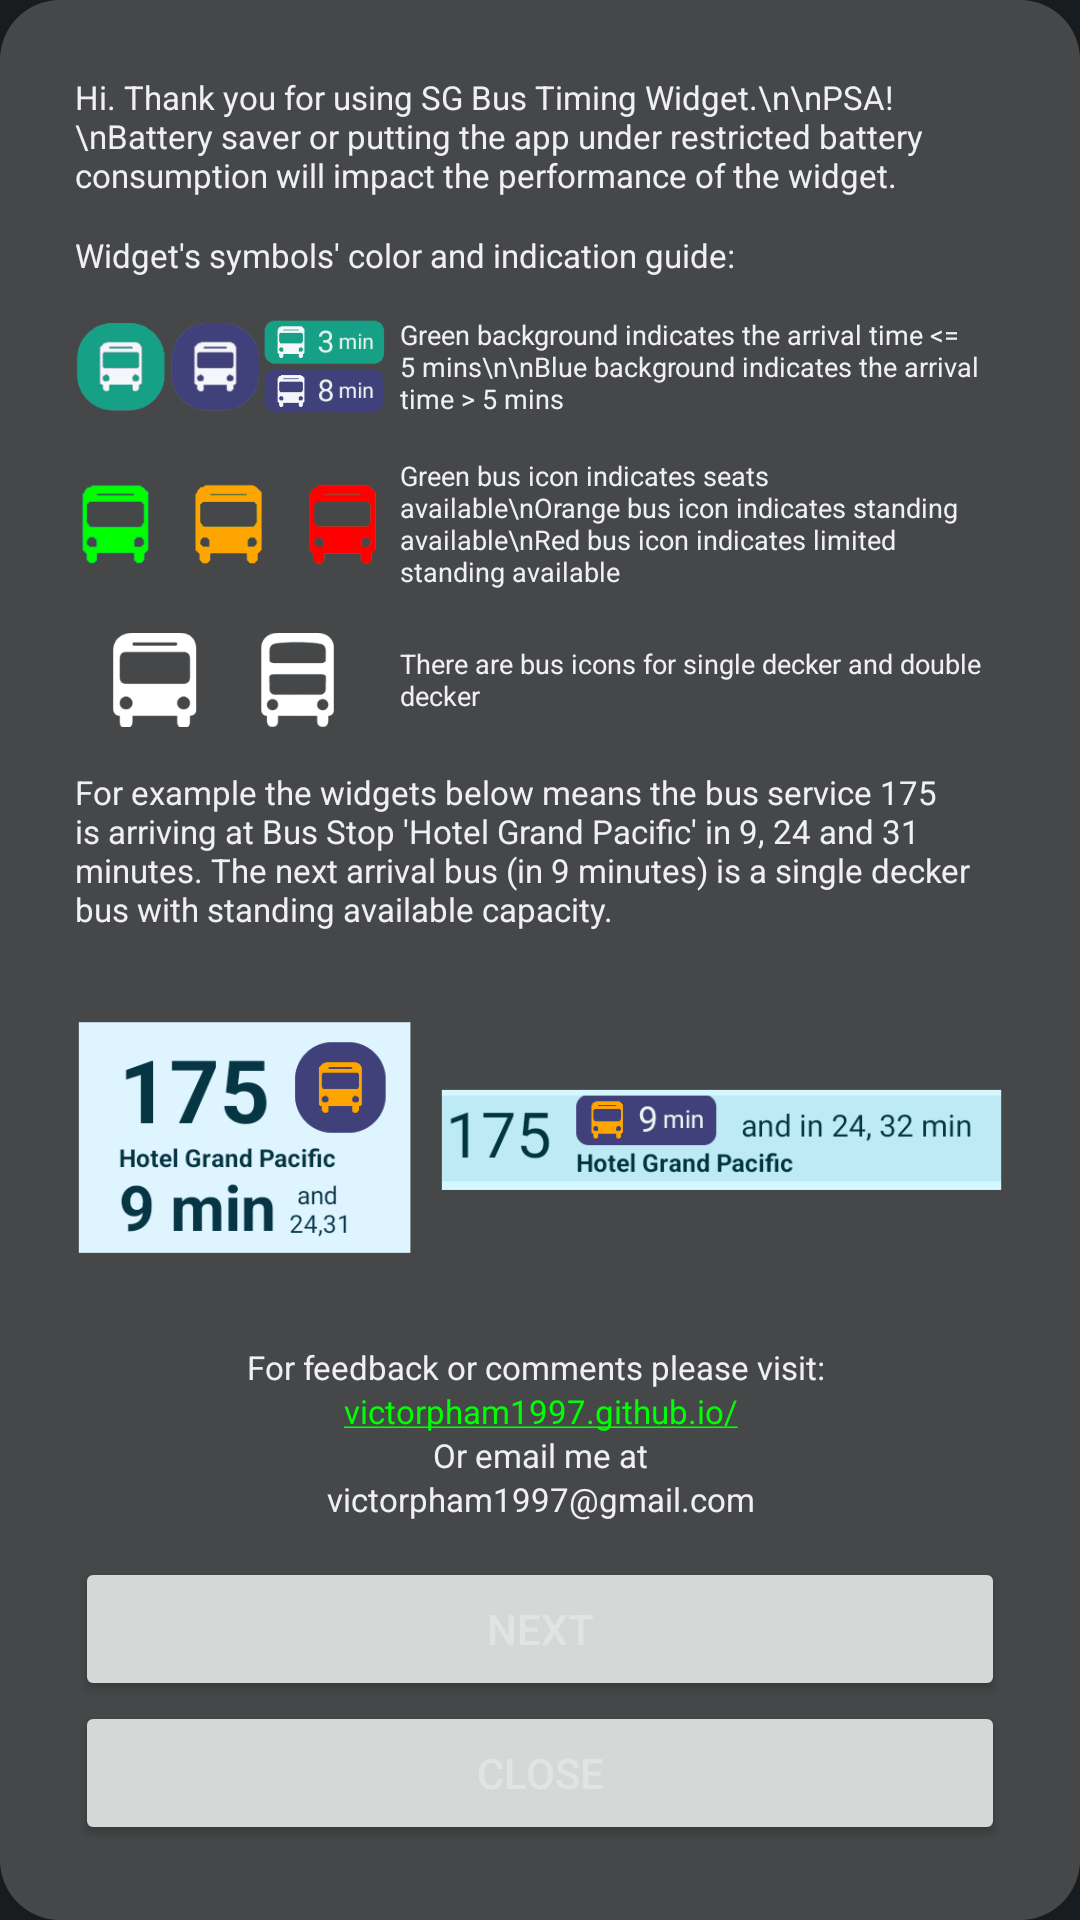

Icons on this 1080px×1920px Android screen, each with the point to tap as (x=x, y=y):
about arrival indicator: (x=230, y=366)
about bus: (x=229, y=524), (x=223, y=680)
